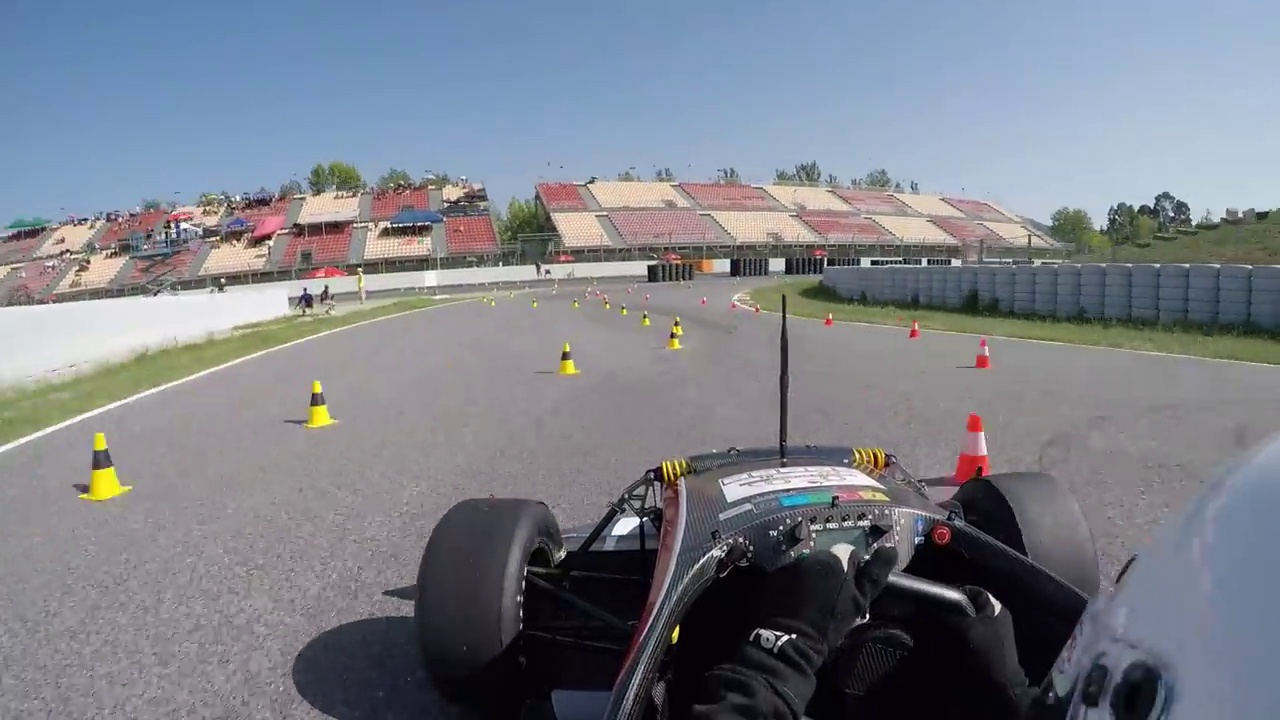Cone: (82, 430, 123, 500), (956, 414, 995, 484), (306, 380, 335, 427), (558, 341, 580, 375)
